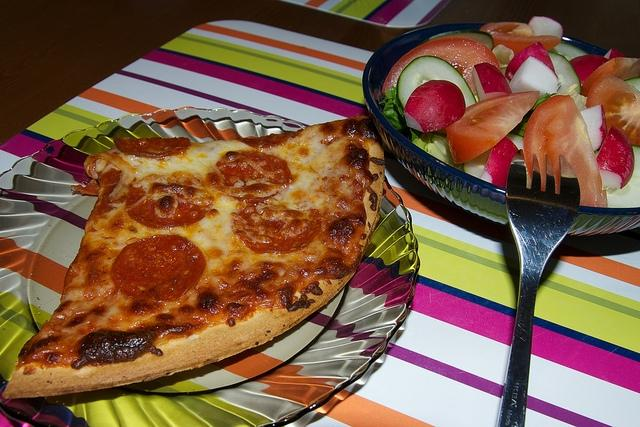cucumber: (397, 55, 478, 112), (594, 145, 640, 208), (546, 50, 581, 96), (418, 30, 494, 50), (461, 147, 493, 179), (548, 42, 590, 60), (625, 76, 640, 92)
tomato: (524, 95, 608, 208), (382, 38, 501, 96), (446, 90, 539, 164), (587, 74, 640, 147), (478, 21, 562, 56), (581, 58, 640, 97)
